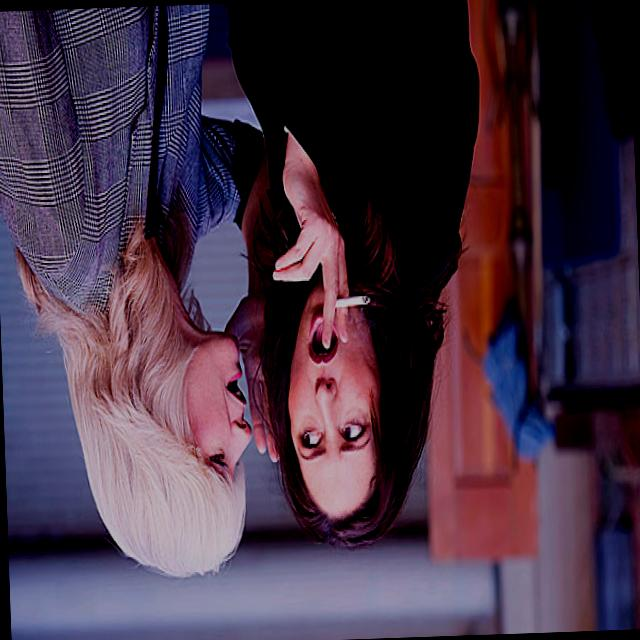smoke: (326, 290, 373, 312)
